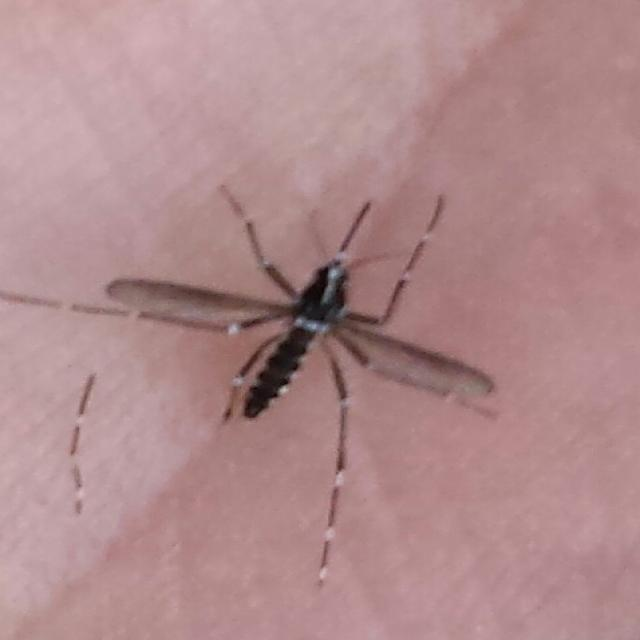albopictus: (119, 163, 516, 500)
